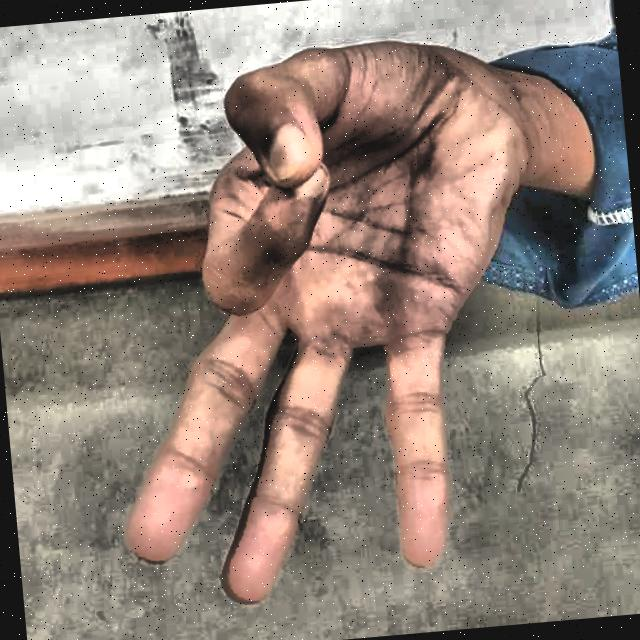Fa: (70, 15, 594, 628)
